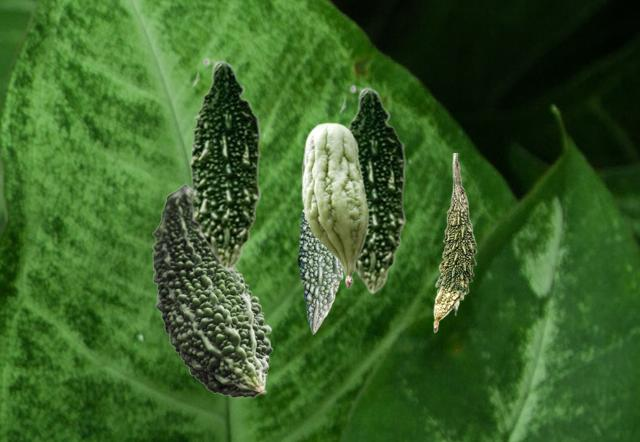ampalaya: (152, 183, 272, 397), (189, 57, 265, 271), (337, 84, 410, 294), (301, 122, 368, 287), (433, 153, 476, 332), (297, 209, 343, 333)
